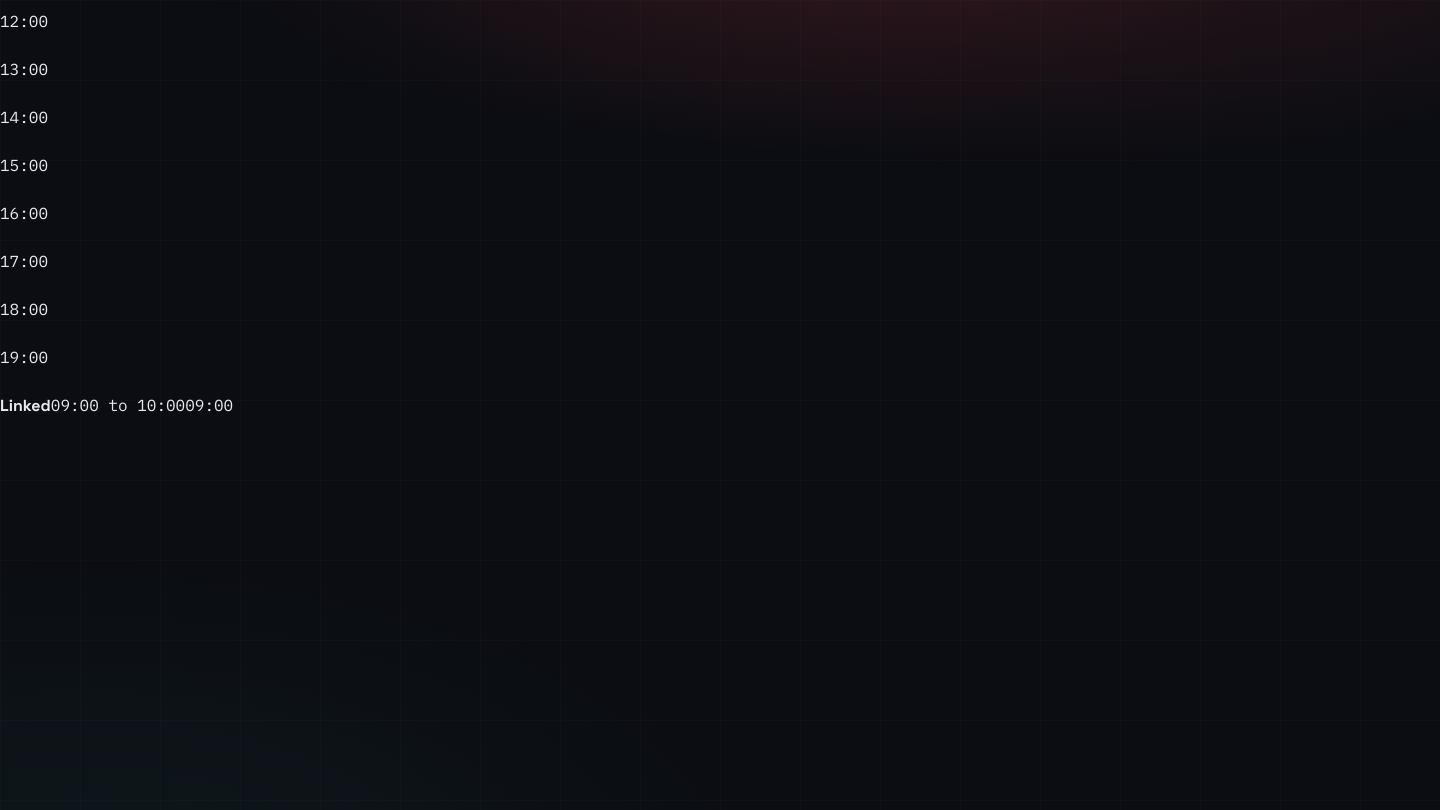
Calendar page › (i) an event opens a read-only detail with OPEN IN GOOGLE when there is a link
Later steps or results of the test are not shown.
(page scrolled)
Click the text "Linked": [25, 406] box 0,395 -> 51,416
(page scrolled)
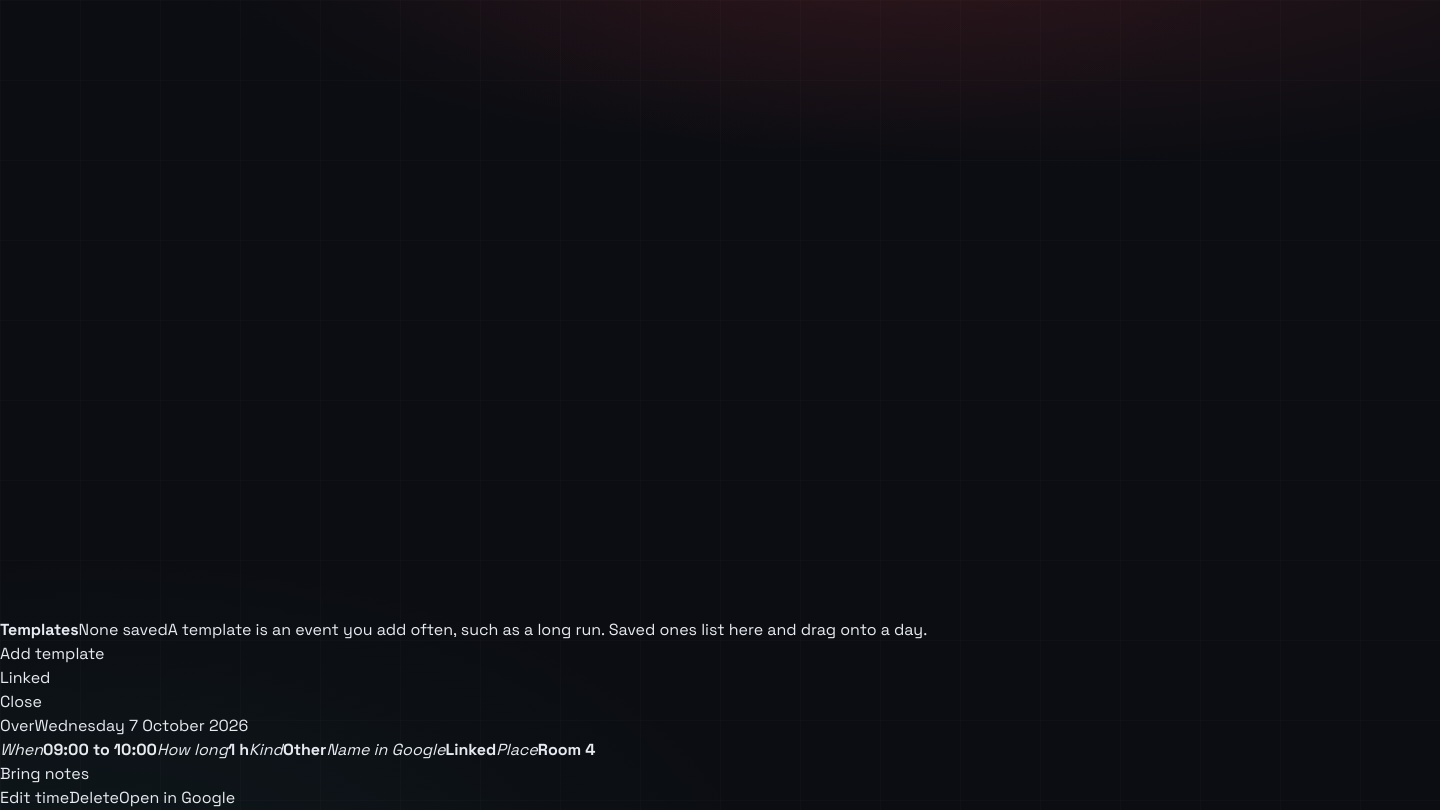
Now the text "Room 4" is shown, box 538,739 -> 595,760
Now the text "Bring notes" is shown, box 0,763 -> 89,784
